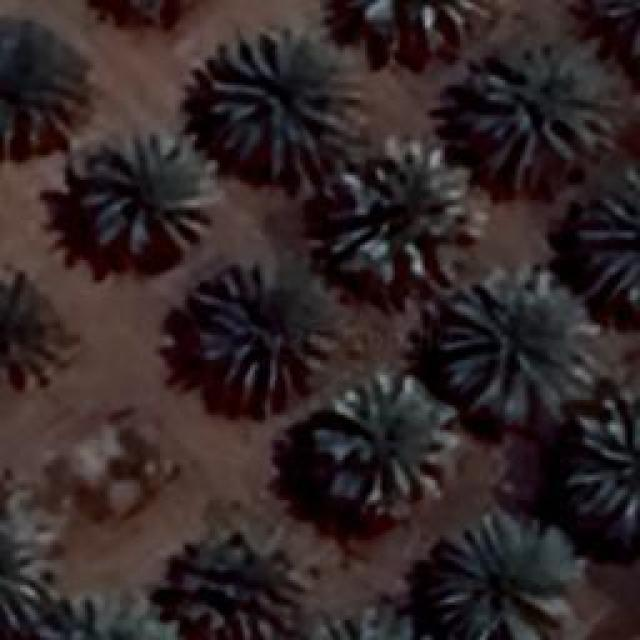PalmTree: (93, 144, 594, 474), (38, 32, 621, 144), (438, 267, 600, 425), (205, 30, 368, 185), (322, 140, 476, 282), (190, 258, 342, 398), (312, 370, 452, 508), (75, 130, 220, 252), (430, 512, 570, 638), (470, 50, 622, 165), (158, 530, 302, 640), (0, 24, 88, 158), (355, 0, 480, 65), (578, 168, 638, 302), (0, 270, 65, 385), (0, 512, 48, 630), (38, 592, 160, 638), (302, 610, 422, 638), (85, 0, 214, 24)
